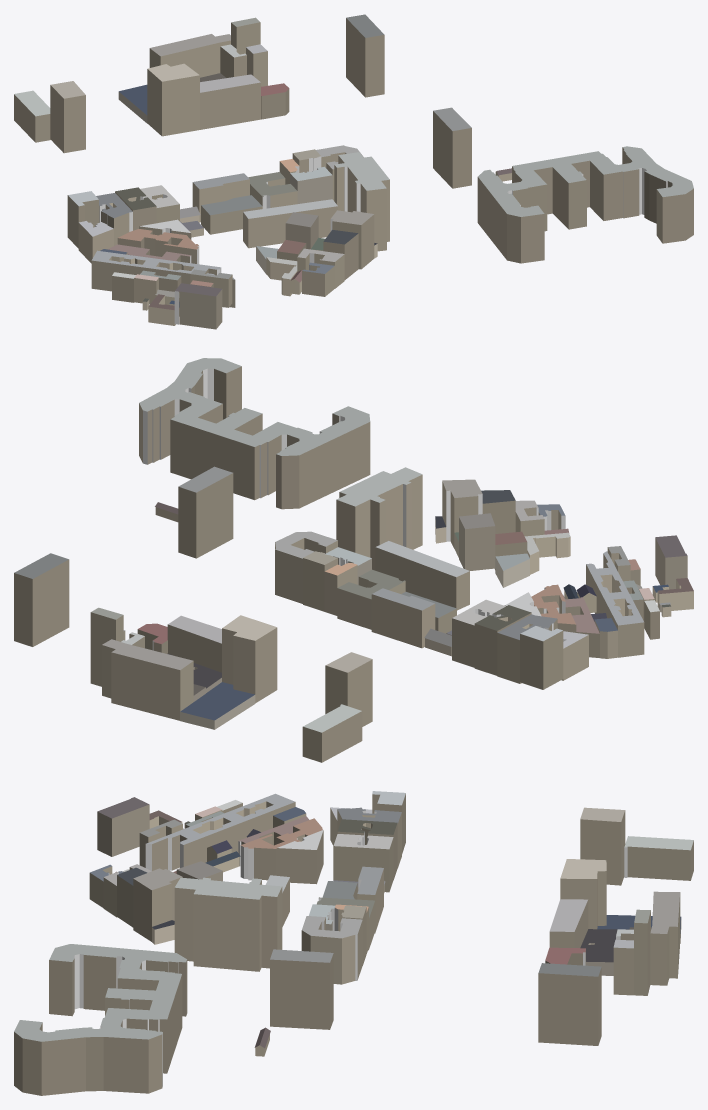
The picture shows the model from 3 angles, top to bottom: view 1: azimuth 30°, elevation 25°; view 2: azimuth 150°, elevation 25°; view 3: azimuth 270°, elevation 25°; orthographic projection. The views are drawn at different scales.
Parts seen in each view (by area): view 1: tuile; view 2: tuile; view 3: tuile.
Boxes of the visible parts, left/top/right/bottom form: tuile: left=14, top=14, right=693, bottom=329; tuile: left=14, top=358, right=693, bottom=762; tuile: left=14, top=791, right=693, bottom=1095.
Bounding box in the file's own units: 297 × 42.5 × 300.
